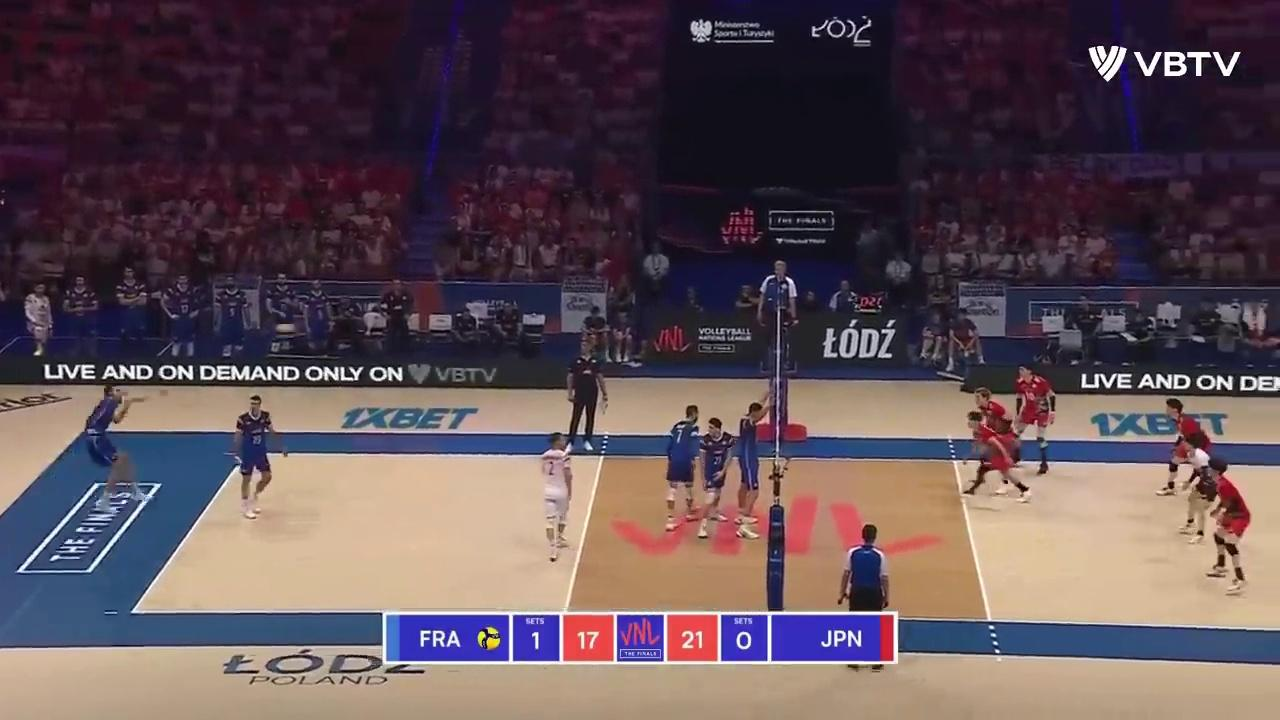ball: (273, 324, 296, 335)
